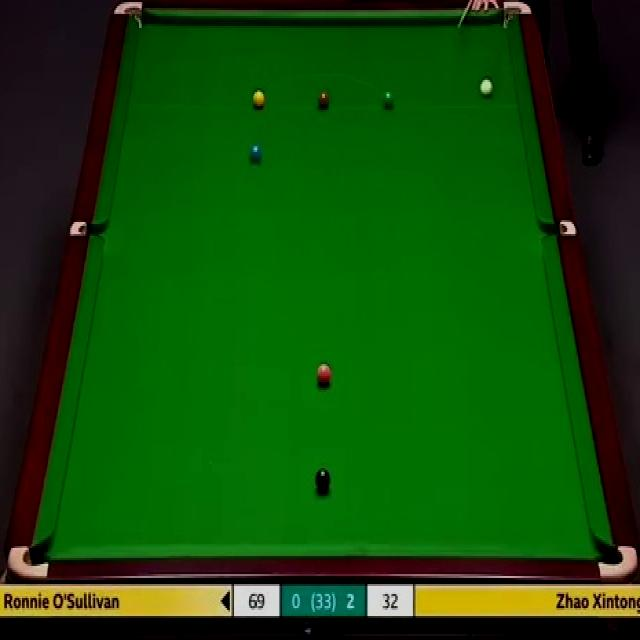black-ball: (315, 467, 331, 493)
blue-ball: (248, 144, 264, 166)
brown-ball: (317, 92, 330, 109)
green-ball: (382, 88, 396, 112)
pink-ball: (316, 362, 332, 389)
white-ball: (479, 76, 495, 96)
yellow-ball: (252, 89, 266, 110)
